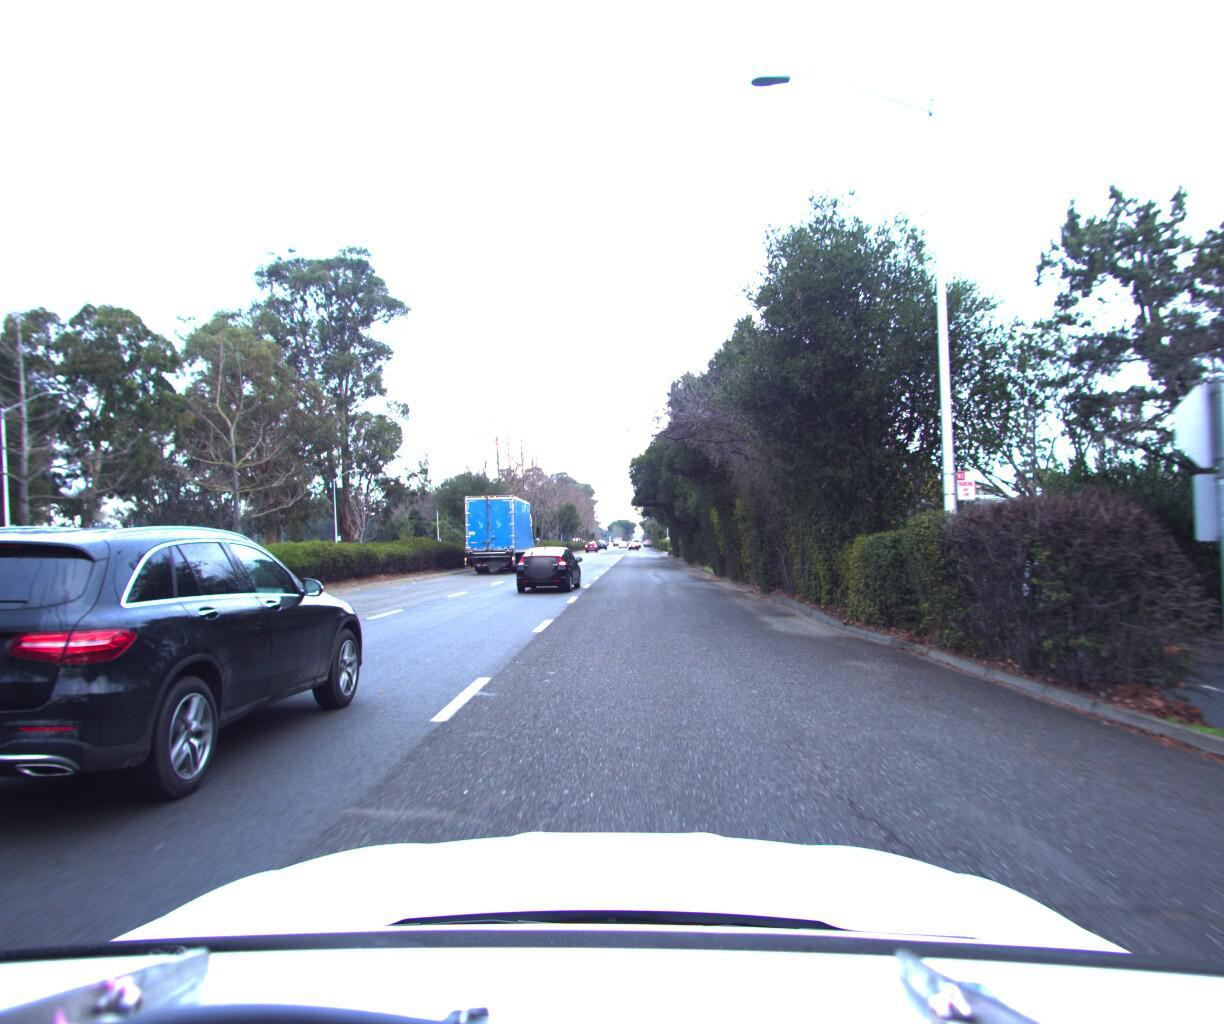car: (516, 542, 587, 592)
truck: (454, 484, 548, 573)
